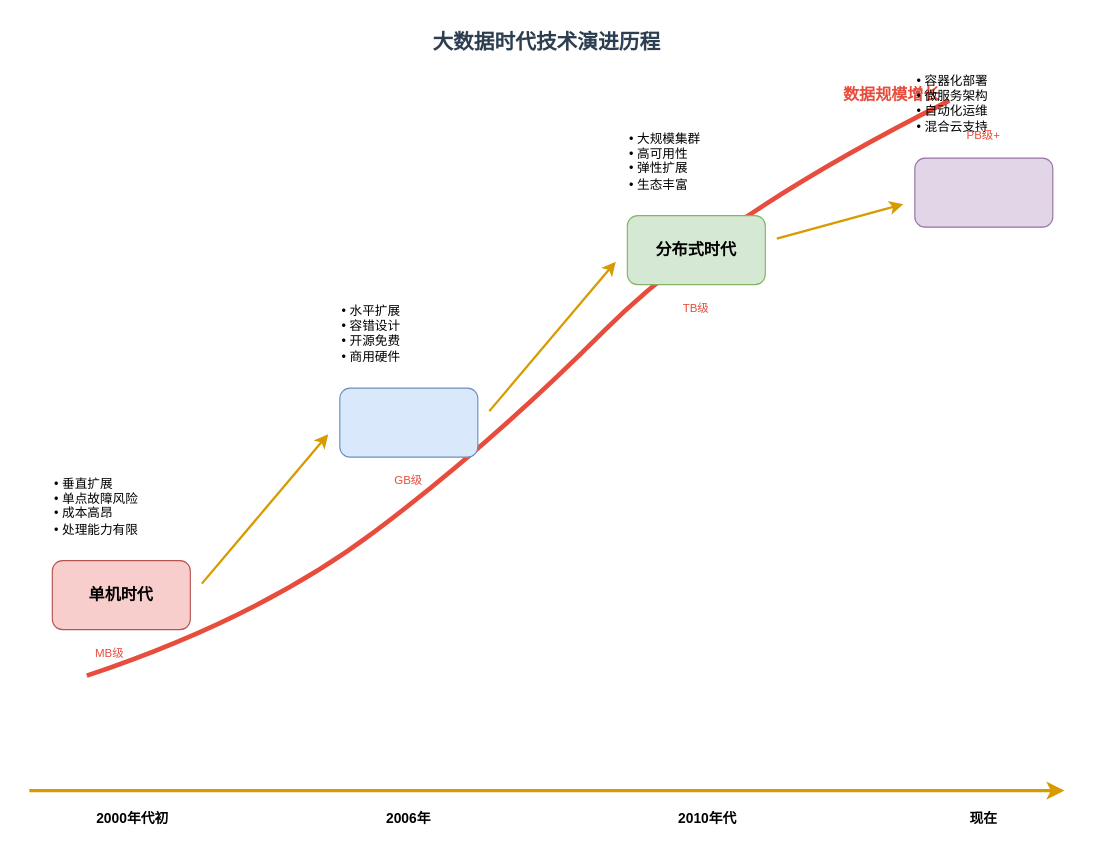
The diagram is 1095 pixels wide and 856 high, and some of its shapes have lost their labels. The shapes that lost their labels are listed below. From the top down, each one's centre as x and y in pixels, then its label:
At (983,192): "云原生时代".
At (408,422): "Hadoop诞生".
